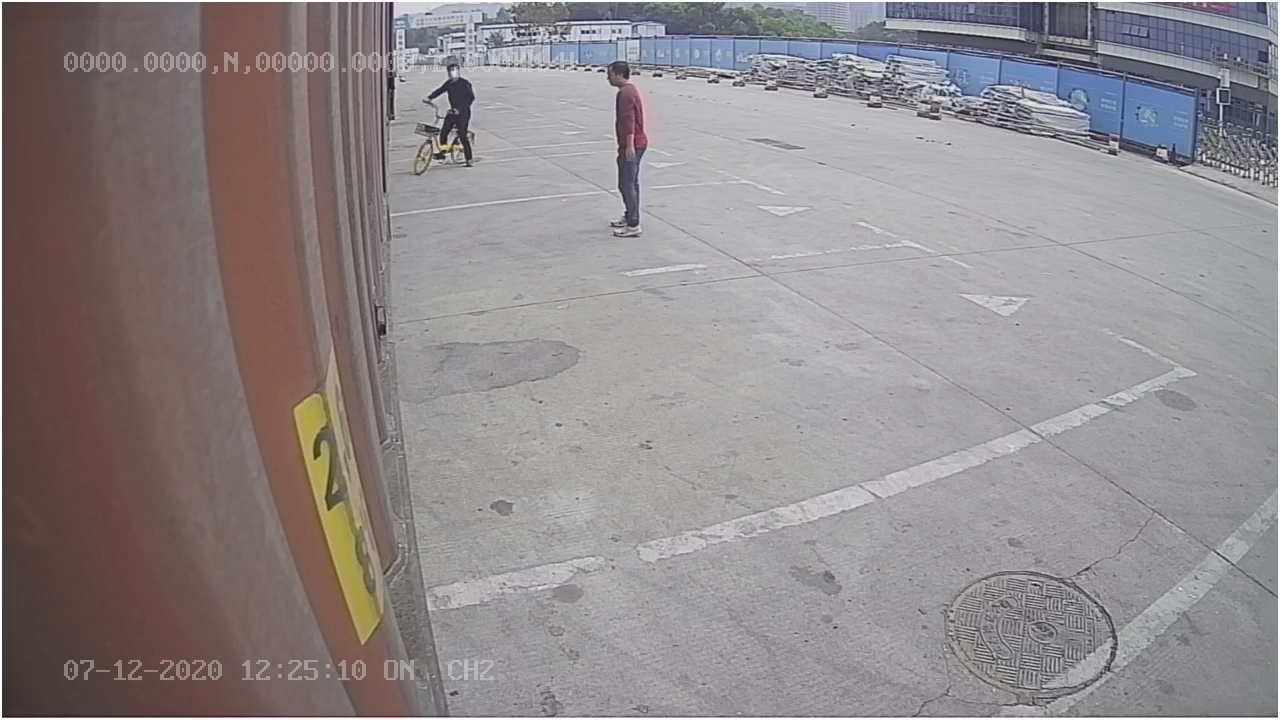person: (601, 58, 653, 239)
